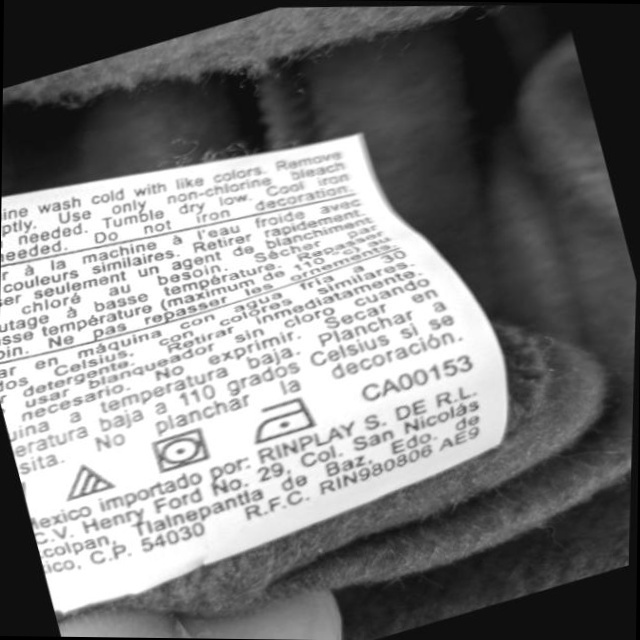iron_low: (250, 395, 322, 448)
non_chlorine_bleach: (63, 457, 116, 501)
tumble_dry_low: (145, 428, 212, 473)
